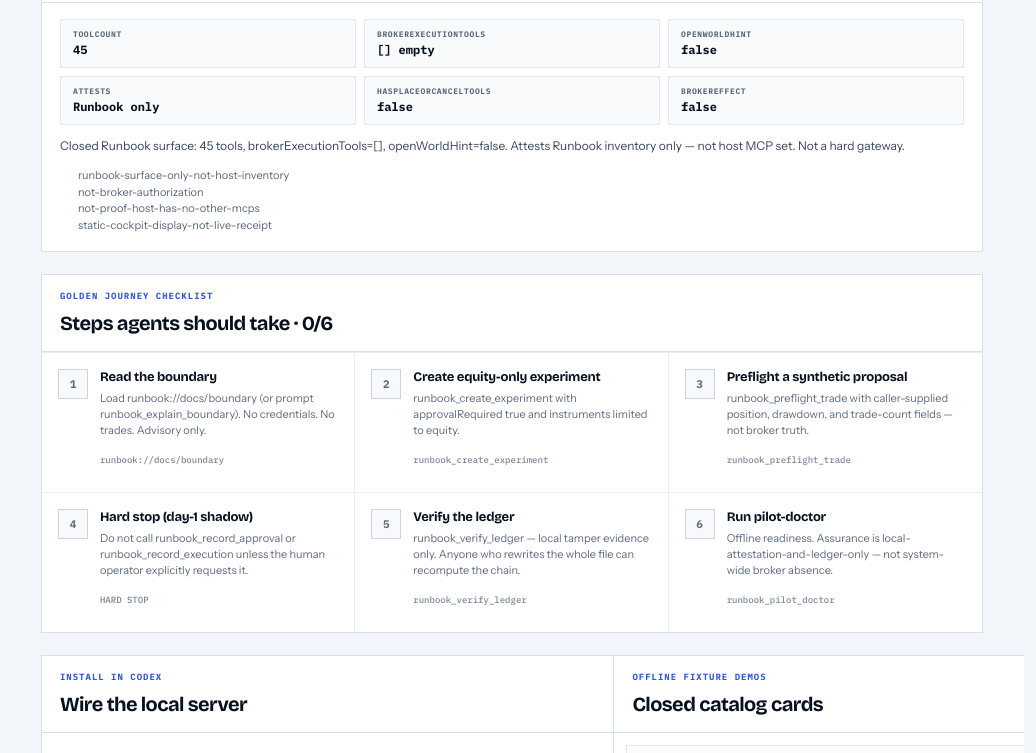
Test case: MCP cockpit › toggles golden journey checklist steps
This screenshot has width=1036, height=753.
(page scrolled)
Click the button "1".
click(73, 384)  # box [58,369,88,399]
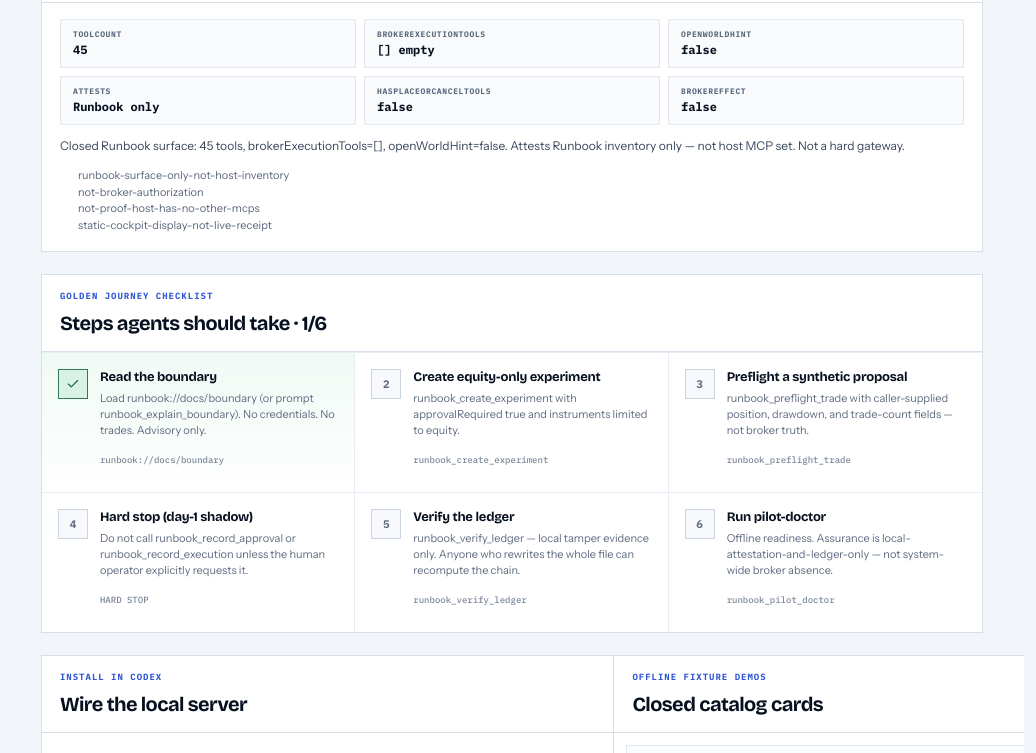
Expected: the heading "Steps agents should take · 1/6" is shown, [60,311,327,335]
